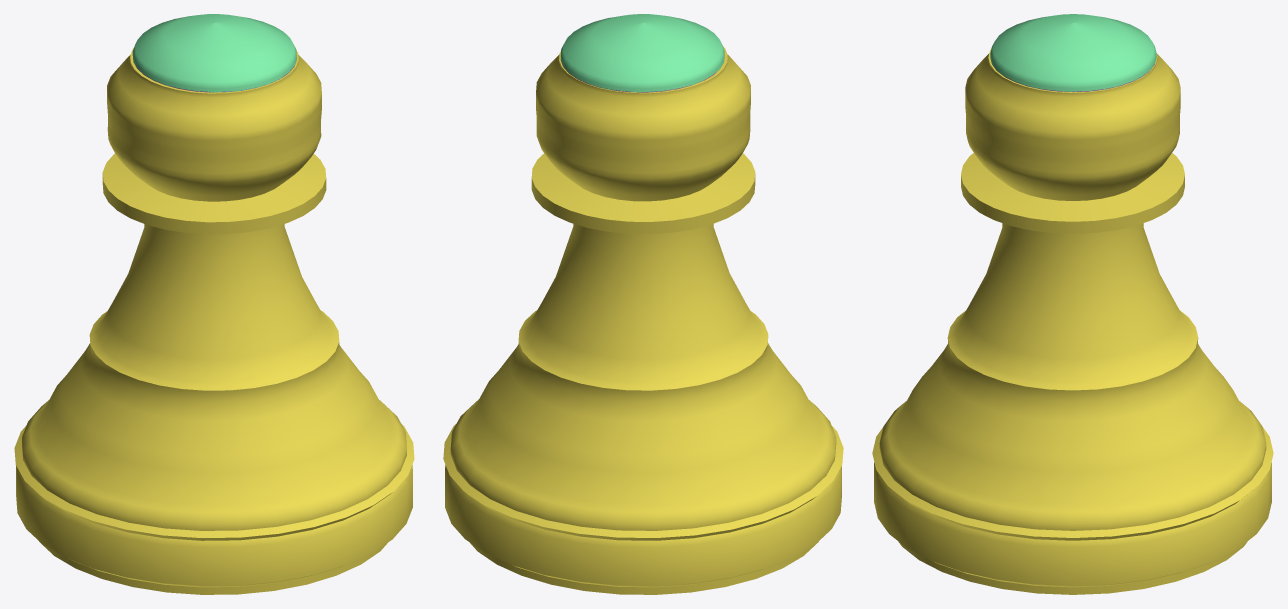
3 views of the same model, side by side, from view 1: azimuth 30°, elevation 25°; view 2: azimuth 150°, elevation 25°; view 3: azimuth 270°, elevation 25° (orthographic).
Visible parts, largest first — view 1: Object_2, Object_2.1121; view 2: Object_2, Object_2.1121; view 3: Object_2, Object_2.1121.
Part boxes in pixels (<box>): Object_2: <box>14,48,414,594</box>; Object_2.1121: <box>132,14,296,92</box>; Object_2: <box>443,46,843,594</box>; Object_2.1121: <box>560,14,724,92</box>; Object_2: <box>872,49,1273,594</box>; Object_2.1121: <box>990,14,1156,91</box>.
Size of the model in its own units: 0.7359 by 1 by 0.7359.
